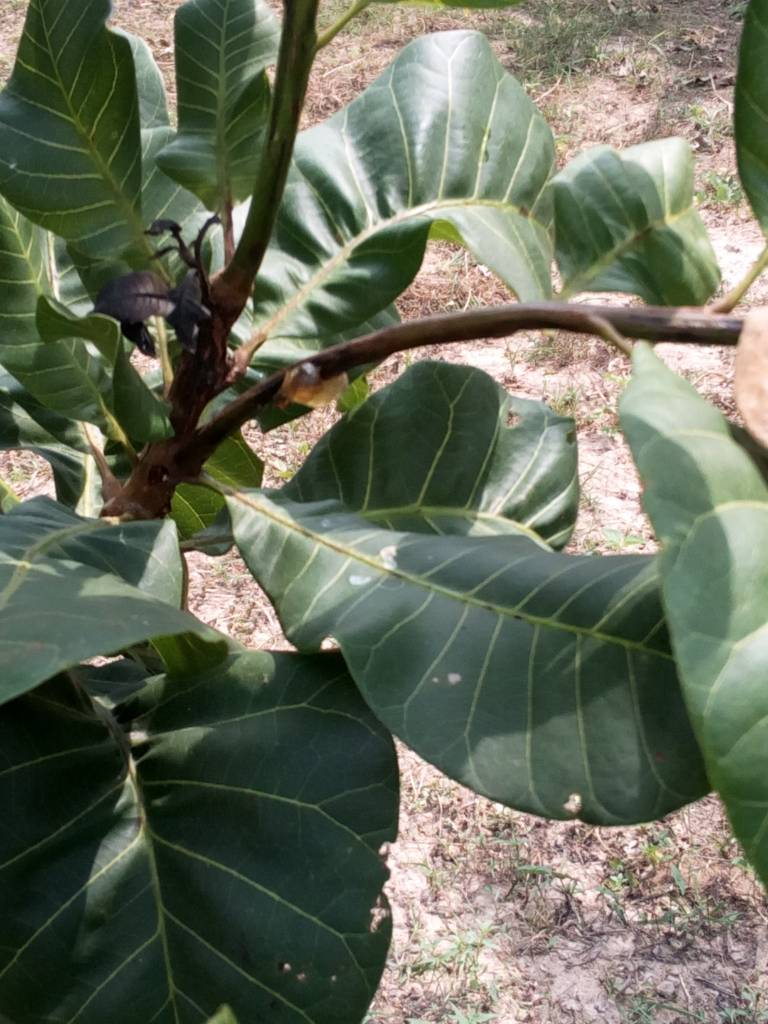Dessèchement des bourgeons: (150, 213, 222, 349)
